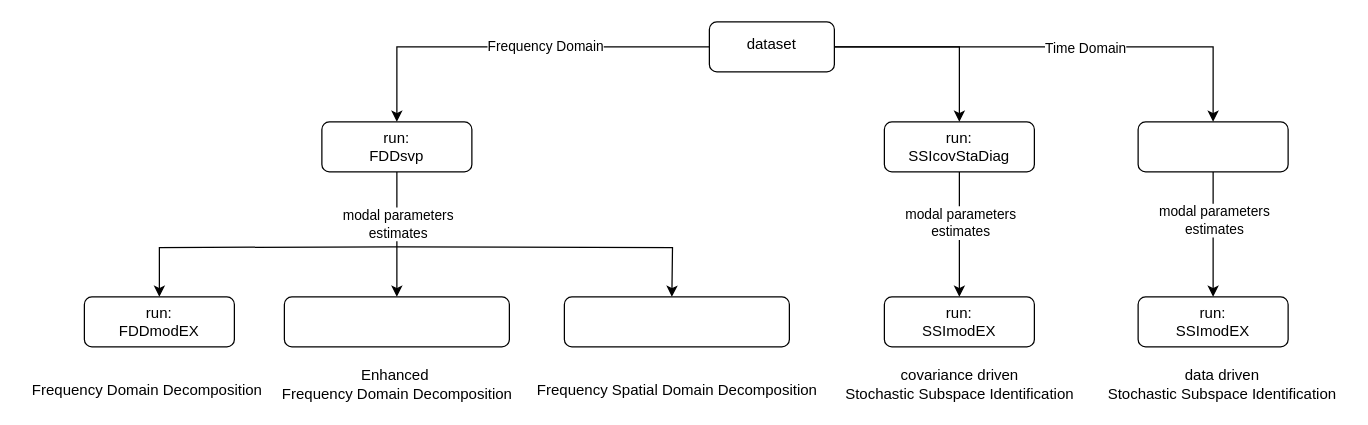
Some shapes in this 1368 by 425 pixel diagram are drawn without their labels. The shapes that lost their labels are listed below. From the top down, each one's box as (x1, y1, x2, y2) in pixels, then its label:
(1137, 121, 1288, 172): run: SSIdatStaDiag
(283, 296, 509, 347): run: EFDDmodEX(method='EFDD')
(563, 296, 789, 347): run: EFDDmodEX(method='FSDD')
